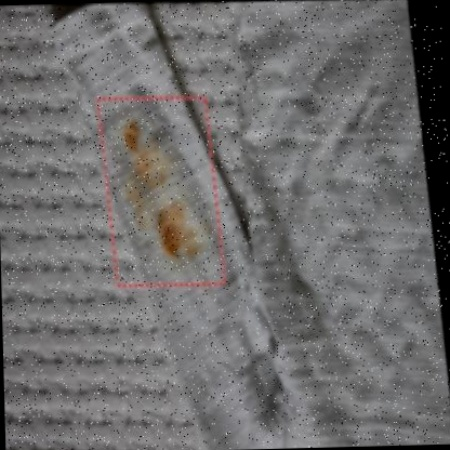kimchi: (122, 110, 207, 273)
